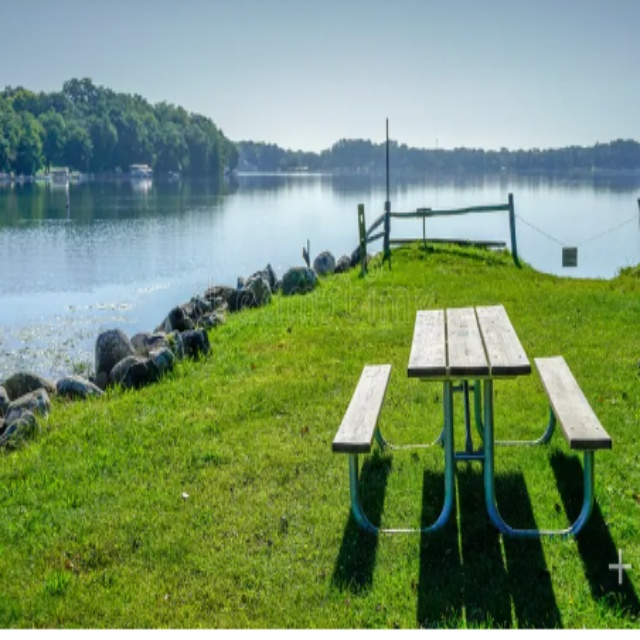obstacle: (313, 299, 609, 579)
